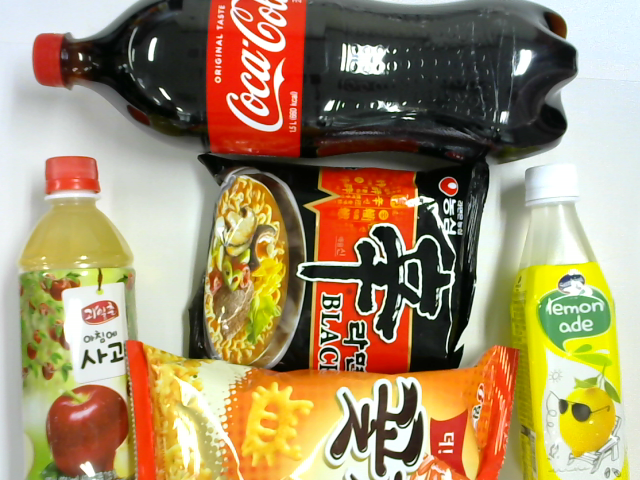Coca_Cola_1.5L: (33, 1, 579, 166)
Crabrang: (123, 341, 522, 480)
Morning_Apple_500ml: (16, 156, 141, 480)
Sinramen_Black: (181, 155, 489, 373)
Sunkist_Lemonaid_Pet: (509, 166, 630, 480)
